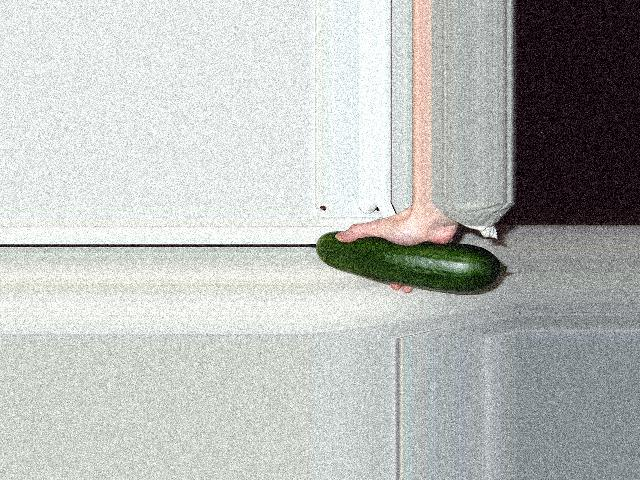cucumber: (315, 232, 506, 295)
